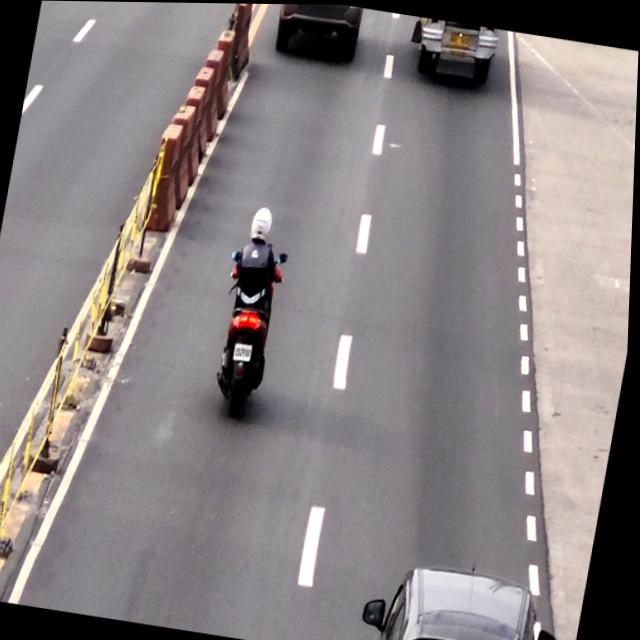Car: (368, 560, 558, 640)
License-Plate: (234, 342, 257, 361)
Motorcycle: (214, 204, 299, 414)
